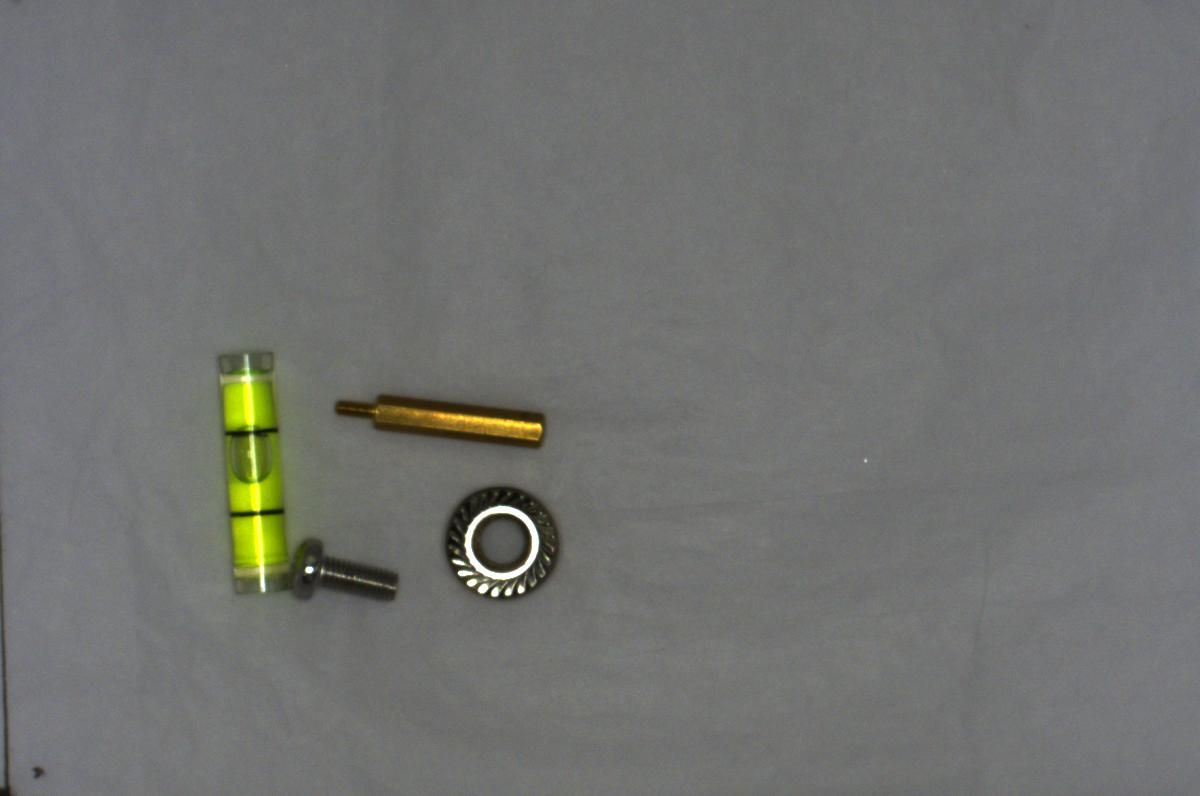Flange nut: (435, 478, 566, 605)
Hexagon pillar: (324, 385, 553, 452)
Horizontal bubble: (210, 336, 297, 600)
Round head screw: (278, 527, 410, 615)
